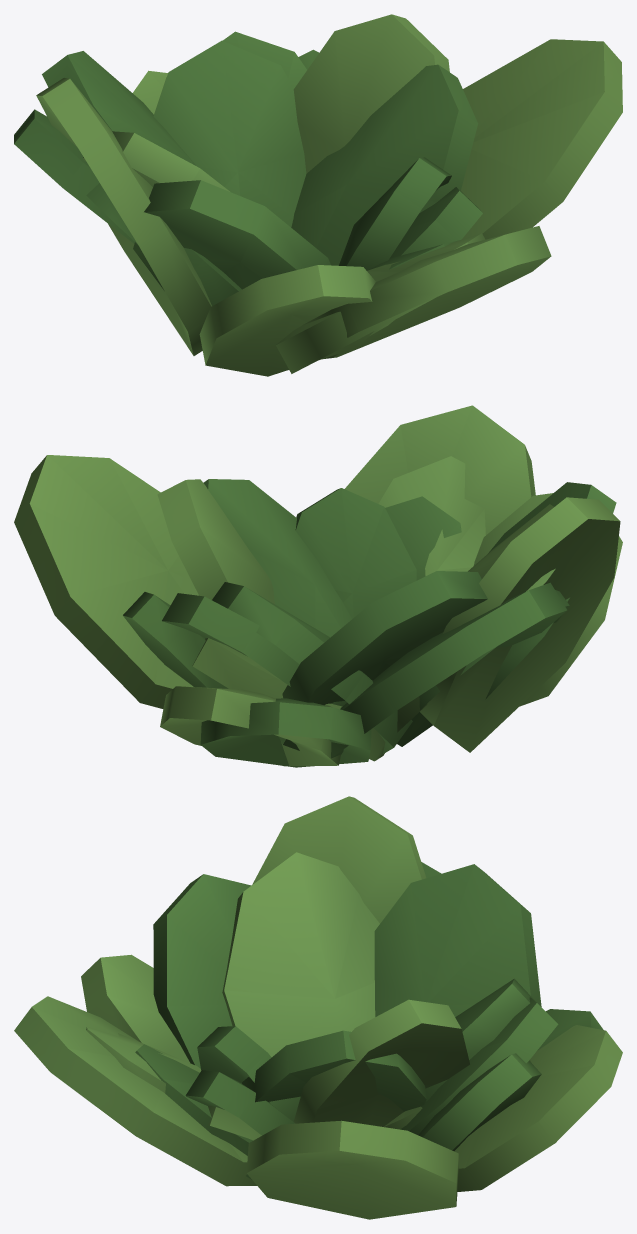
Rendered from shore_gc_sea_rocket_c.glb.
3 renders of one model, top to bottom at view 1: azimuth 30°, elevation 25°; view 2: azimuth 150°, elevation 25°; view 3: azimuth 270°, elevation 25°, orthographic. The views are drawn at different scales.
Parts seen in each view (by area): view 1: shore_gc_sea_rocket_c; view 2: shore_gc_sea_rocket_c; view 3: shore_gc_sea_rocket_c.
Part boxes in pixels (box(x1,y1,x2,y2)): shore_gc_sea_rocket_c: box(14, 14, 622, 376); shore_gc_sea_rocket_c: box(14, 405, 622, 767); shore_gc_sea_rocket_c: box(14, 796, 622, 1219).
Size of the model in its own units: 2.4 by 1.23 by 2.38.
